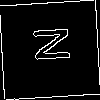N: (25, 25, 70, 64)
